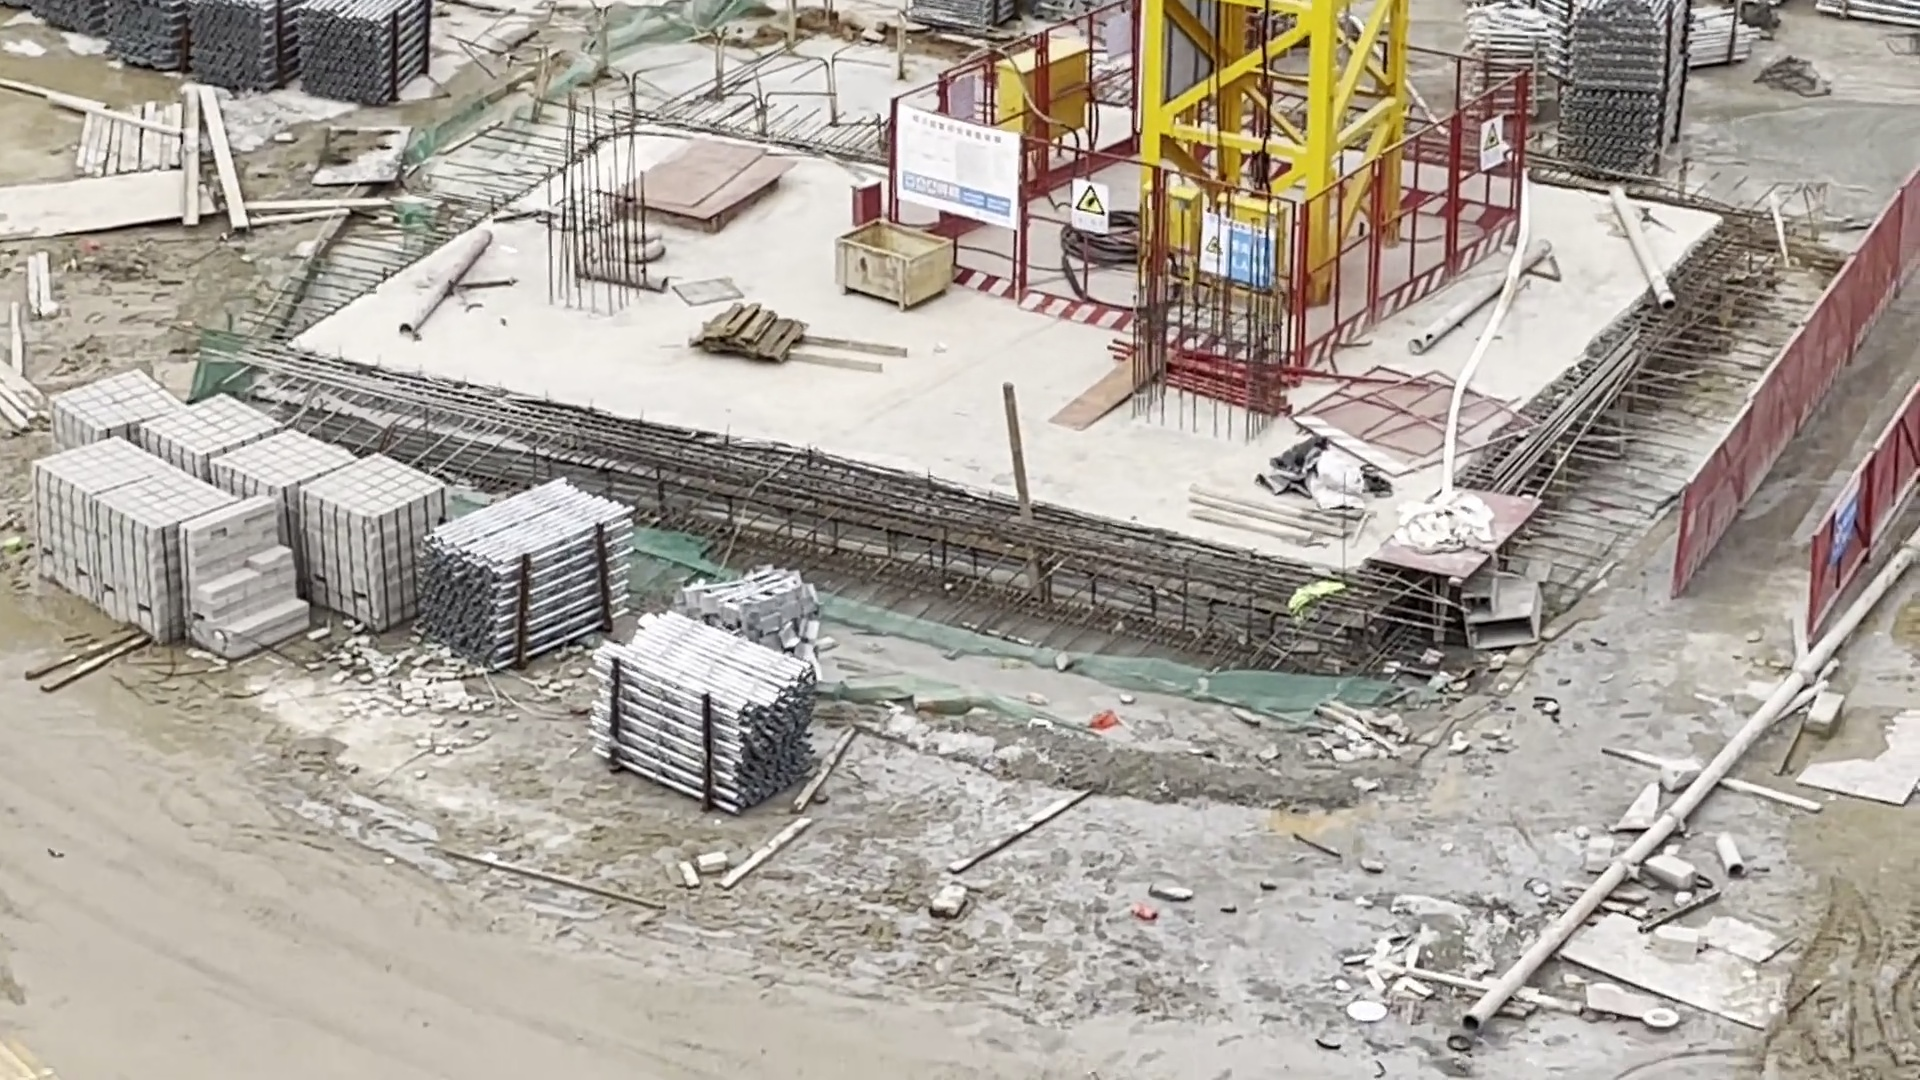brick: (29, 371, 444, 661)
ebox: (1125, 164, 1303, 289), (986, 30, 1104, 153)
fence: (881, 103, 1315, 369), (1261, 82, 1545, 375), (1764, 158, 1920, 646), (877, 7, 1145, 214), (1664, 392, 1776, 622)
hopper: (818, 212, 956, 314)
scaffold: (1458, 1, 1778, 189), (574, 604, 844, 822), (3, 4, 462, 123), (415, 465, 645, 674)
slogan: (881, 105, 1033, 231), (1187, 204, 1284, 291), (1060, 174, 1114, 247), (1822, 477, 1863, 570), (1462, 117, 1516, 175)
